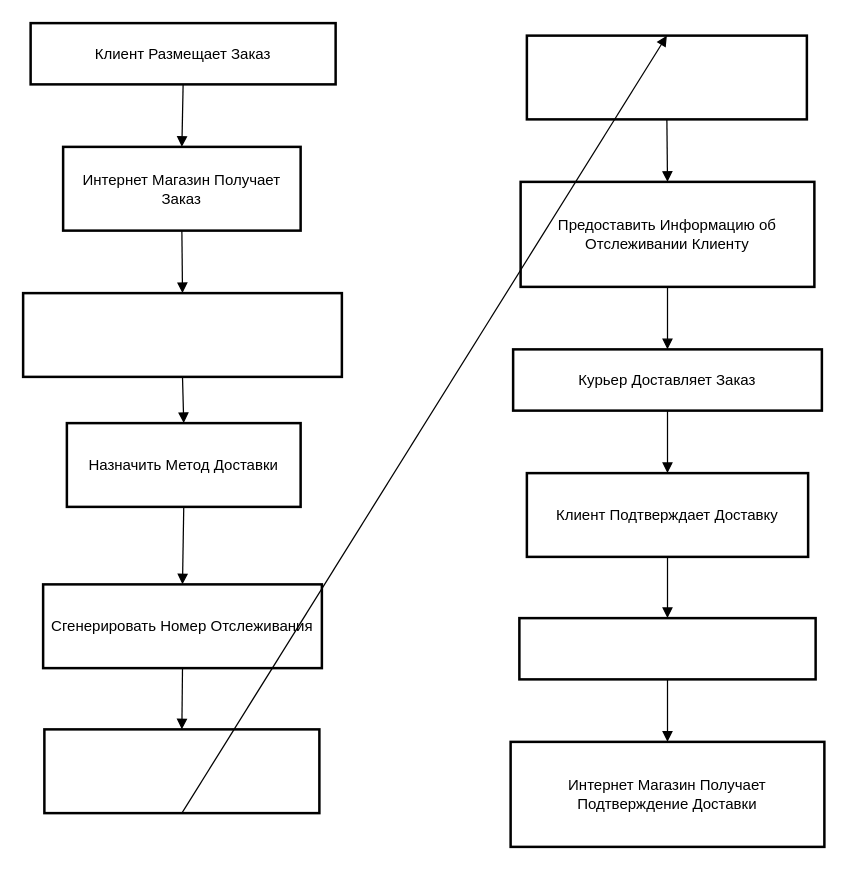
The diagram is 846 pixels wide and 869 high, and some of its shapes have lost their labels. Each missing label, with the box of its shape:
Курьер Подтверждает Прием: (525, 34, 808, 120)
Обновить Статус Заказа: (518, 616, 816, 680)
Система Доставки Создает Заказ: (21, 291, 342, 378)
Уведомить Курьера о Приеме: (42, 728, 320, 814)
